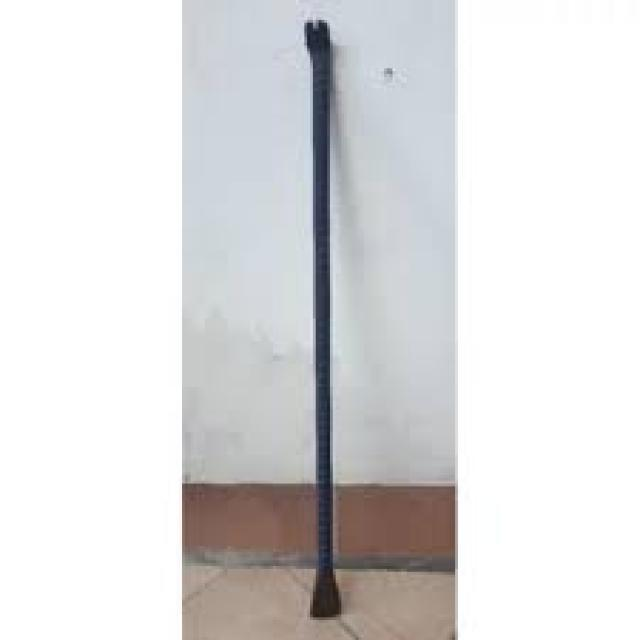Linggis: (287, 9, 363, 640)
